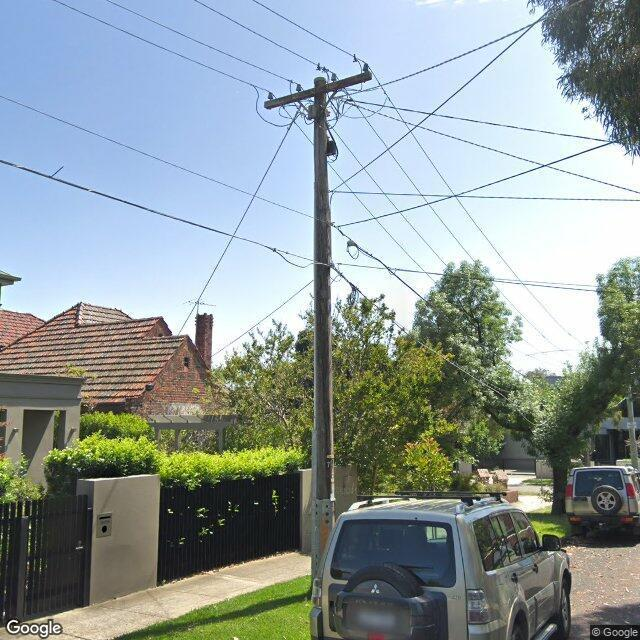crossarm: (264, 54, 374, 110)
timber-pole: (311, 77, 336, 582)
